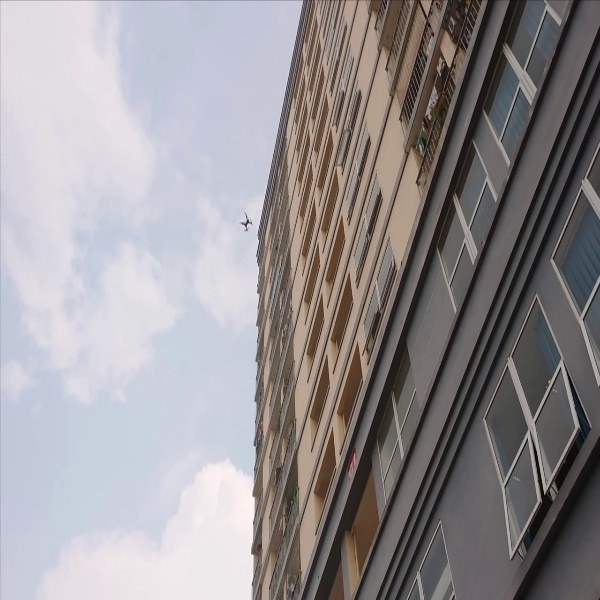drone: (233, 206, 256, 240)
